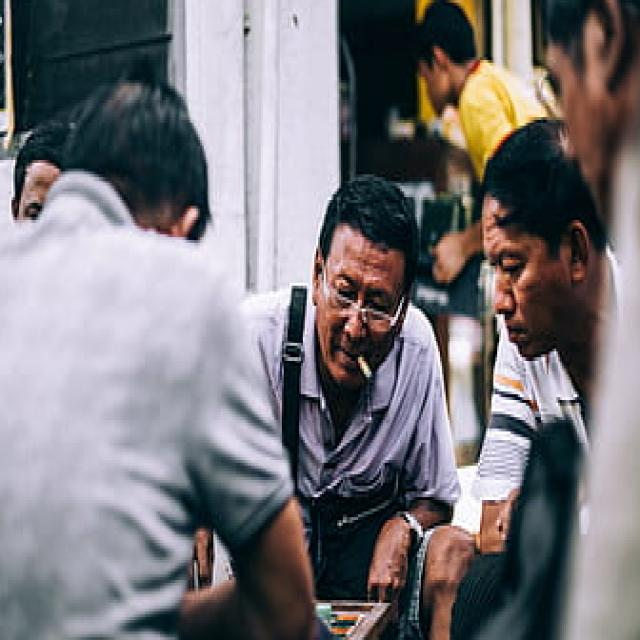Glasses: (316, 254, 410, 343)
